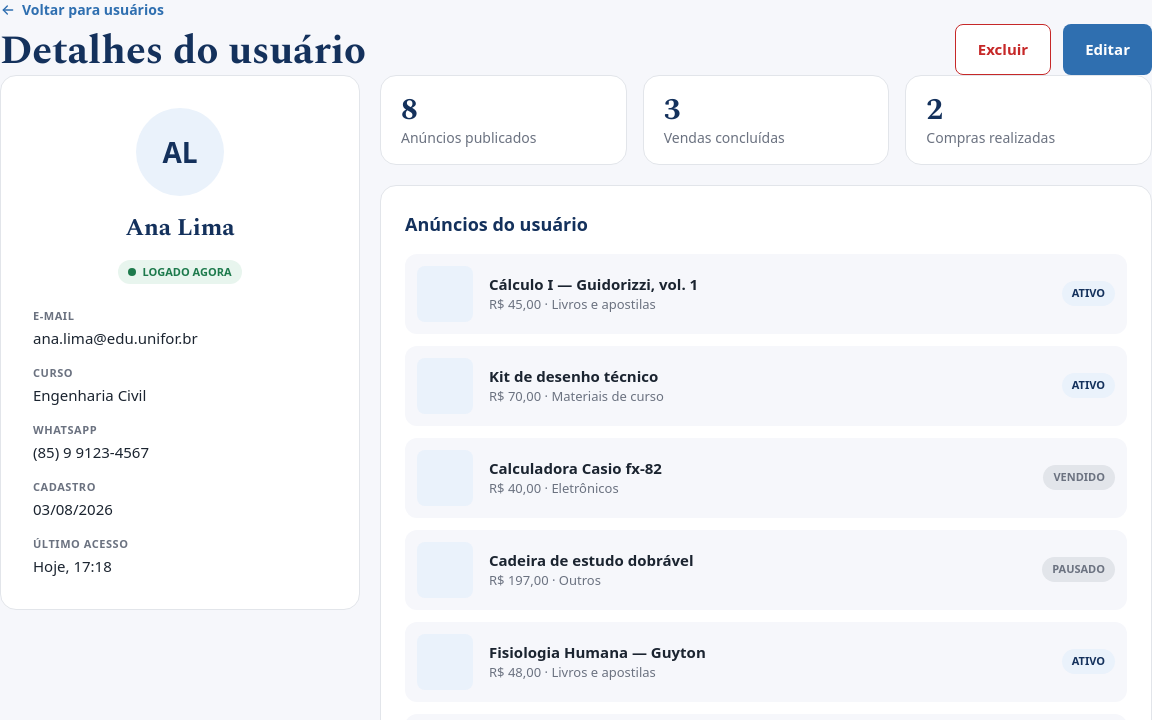
it: Admin · detalhes do usuário (A02) › excluir quem tem pedido pago em aberto mostra o motivo e mantém o pop-up aberto
Click the button "Excluir". click: (1003, 49)
box: x1=955 y1=24 x2=1051 y2=74
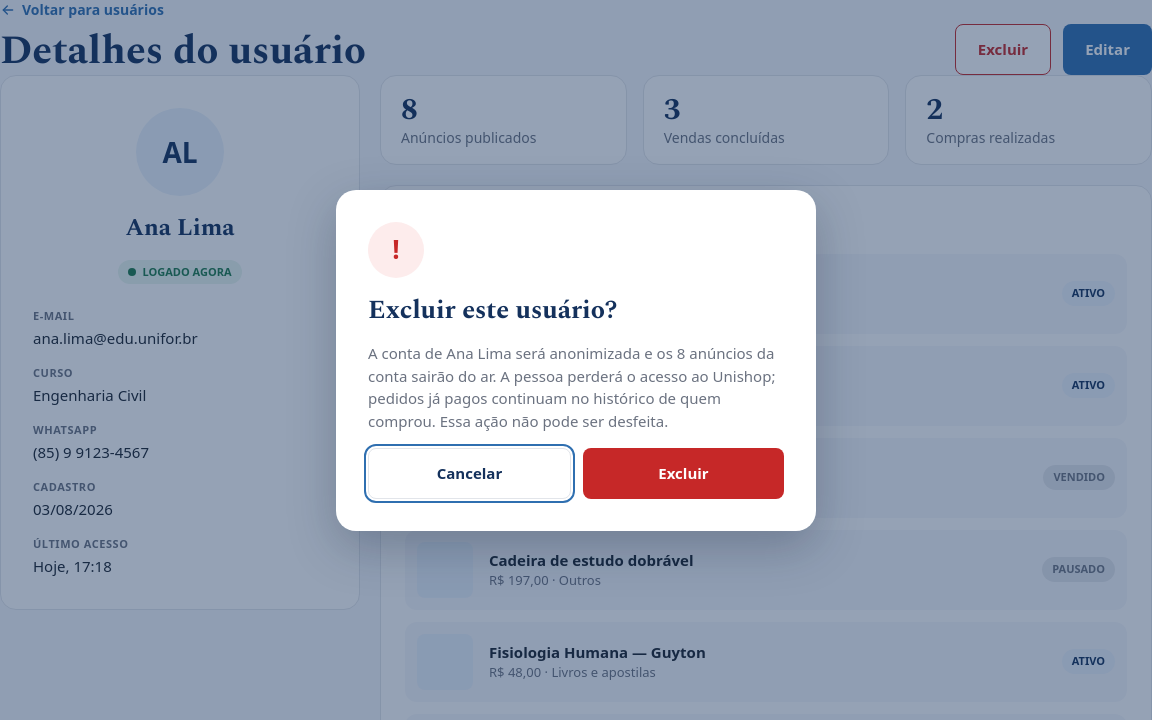
Click the button "Excluir". click: (684, 473)
box: x1=583 y1=448 x2=784 y2=498
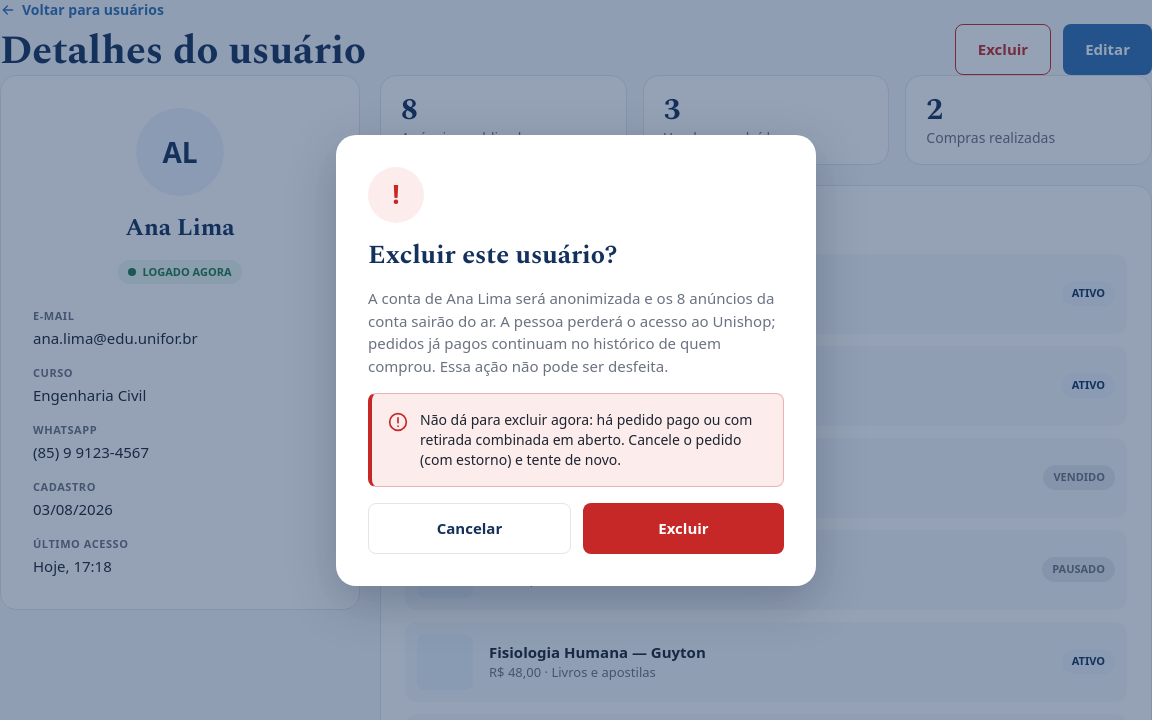
expect the text "há pedido pago ou com retirada combinada em aberto" is shown: met, box x1=420 y1=410 x2=752 y2=469
